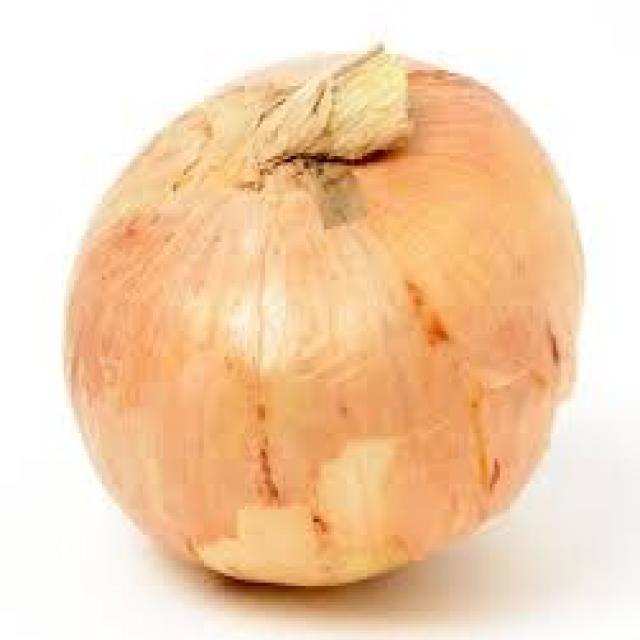organic waste: (69, 51, 584, 589)
